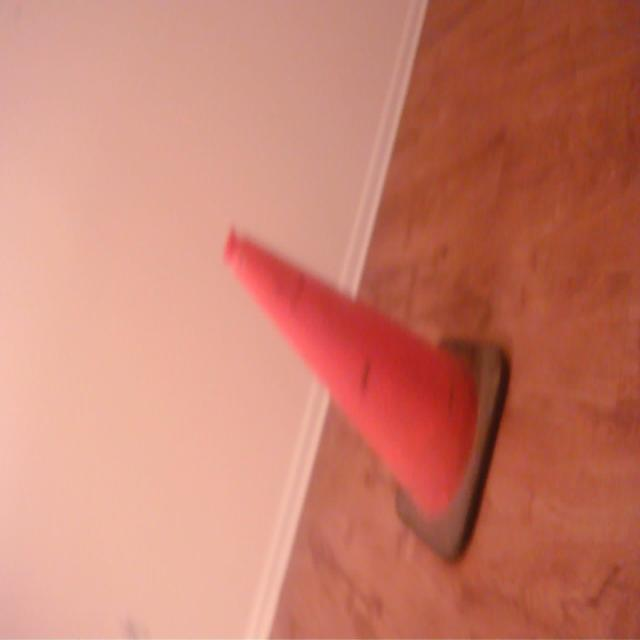traffic cone: (221, 219, 515, 574)
